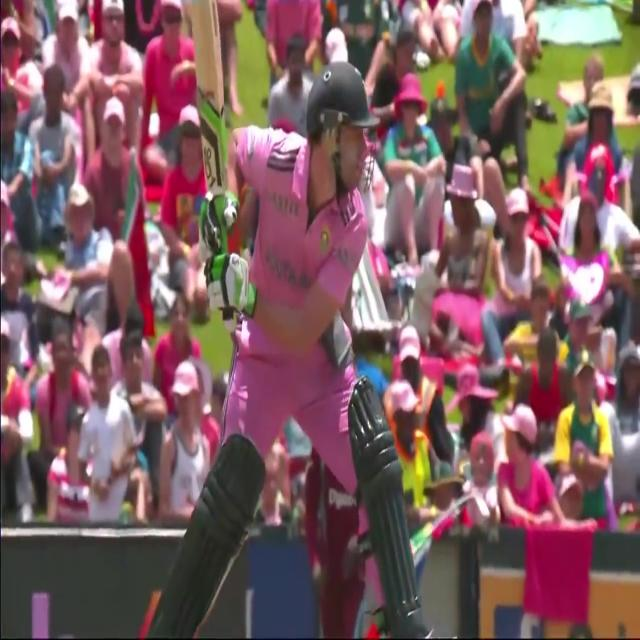Ball: (148, 57, 441, 638)
